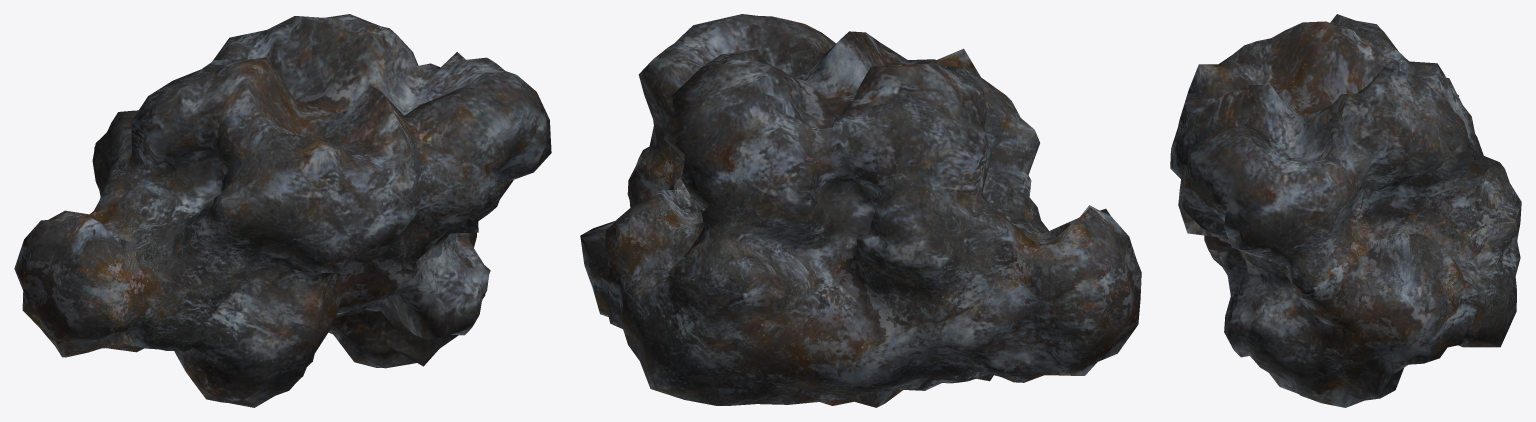
The model's file is Rocky_Asteroid_3.obj.
3 renders of one model, left to right at view 1: azimuth 30°, elevation 25°; view 2: azimuth 150°, elevation 25°; view 3: azimuth 270°, elevation 25°, orthographic. The views are drawn at different scales.
Visible parts, largest first — view 1: Rocky_Asteroid_3; view 2: Rocky_Asteroid_3; view 3: Rocky_Asteroid_3.
Boxes of the visible parts, x1,y1,x2,y2 form: Rocky_Asteroid_3: [14, 14, 551, 407]; Rocky_Asteroid_3: [580, 14, 1141, 407]; Rocky_Asteroid_3: [1170, 14, 1521, 407].
Bounding box in the file's own units: 1.93 × 1.28 × 1.32.
Materials: 1 (1 with a texture image).
